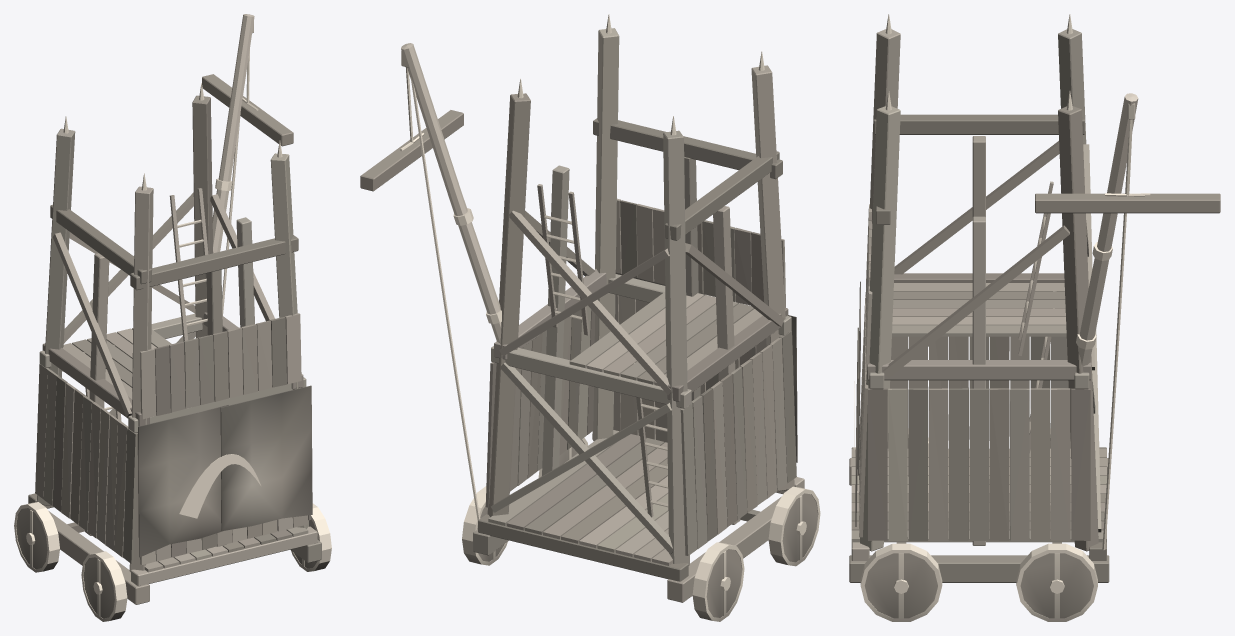
File: SM_VKI_Prop_Siege_Tower.fbx
3 renders of one model, left to right at view 1: azimuth 30°, elevation 25°; view 2: azimuth 150°, elevation 25°; view 3: azimuth 270°, elevation 25°, orthographic. The views are drawn at different scales.
Parts seen in each view (by area): view 1: SM_VKI_Prop_Siege_Tower.001; view 2: SM_VKI_Prop_Siege_Tower.001; view 3: SM_VKI_Prop_Siege_Tower.001.
Part boxes in pixels (x1=…): SM_VKI_Prop_Siege_Tower.001: x1=14, y1=14, x2=331, y2=621; SM_VKI_Prop_Siege_Tower.001: x1=360, y1=14, x2=820, y2=621; SM_VKI_Prop_Siege_Tower.001: x1=849, y1=14, x2=1220, y2=621.
Bounding box in the file's own units: 4.62 × 8.11 × 5.
